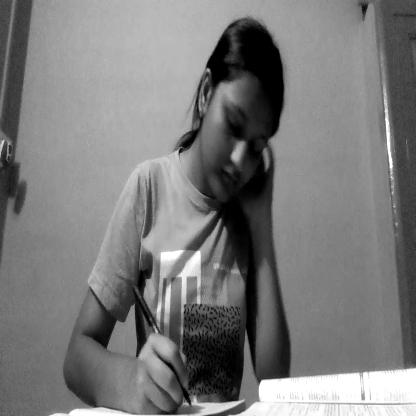Distracted: (202, 54, 284, 209)
